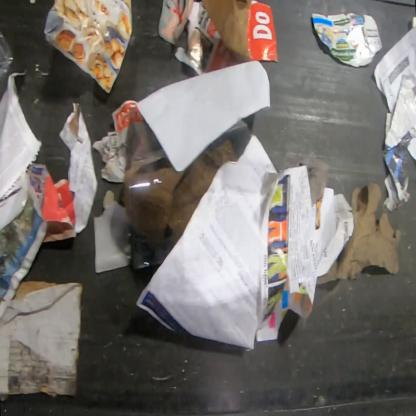cardboard: (0, 280, 84, 403), (200, 0, 278, 64), (312, 12, 384, 68), (92, 188, 130, 274)
soft_plastic: (124, 109, 252, 271), (0, 29, 16, 102)
